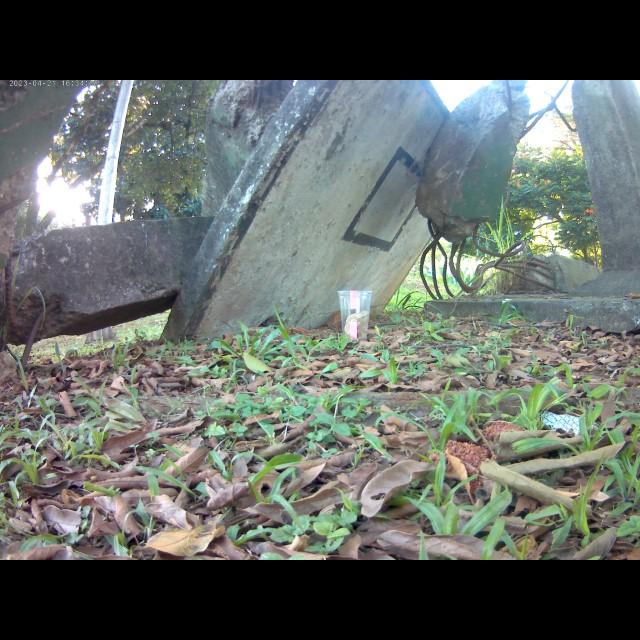detrito: (150, 81, 502, 346), (1, 80, 220, 416), (421, 80, 640, 336), (411, 80, 534, 251), (491, 248, 599, 292)
